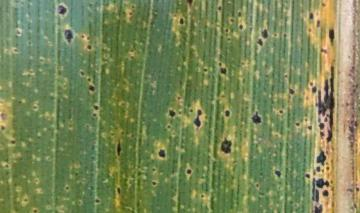tarspot: (317, 64, 335, 144), (311, 178, 320, 204), (220, 137, 233, 154), (316, 150, 327, 167), (315, 178, 331, 189), (194, 109, 203, 128), (251, 111, 263, 125), (64, 29, 74, 44), (328, 28, 335, 46), (57, 5, 67, 15), (116, 140, 122, 156), (167, 109, 176, 118), (321, 189, 330, 198), (319, 47, 329, 55), (313, 205, 323, 213), (158, 149, 166, 158), (220, 66, 227, 76), (262, 29, 269, 39), (274, 170, 282, 178), (224, 109, 231, 118), (319, 131, 326, 140), (315, 19, 321, 29), (256, 39, 264, 46), (288, 88, 296, 95), (319, 121, 325, 130), (88, 85, 95, 92), (254, 182, 261, 189), (179, 17, 185, 25), (311, 86, 317, 94), (308, 12, 314, 20), (238, 23, 244, 30), (15, 29, 21, 36), (323, 116, 329, 123), (272, 32, 280, 37), (186, 169, 192, 175), (74, 171, 80, 177), (317, 116, 322, 123), (117, 187, 121, 195), (151, 181, 157, 186), (224, 28, 230, 33), (13, 48, 19, 53), (187, 1, 193, 6), (309, 81, 314, 87), (307, 27, 312, 33), (315, 166, 320, 172), (311, 169, 316, 175), (87, 44, 92, 49), (80, 71, 85, 76), (1, 126, 6, 131), (93, 104, 98, 109), (217, 6, 222, 11), (128, 11, 133, 16), (283, 73, 288, 78), (295, 122, 300, 127), (305, 173, 310, 178), (307, 125, 312, 130), (321, 3, 326, 8), (85, 124, 90, 129), (325, 161, 330, 166), (177, 95, 181, 101), (237, 11, 241, 17), (324, 167, 330, 171), (321, 167, 324, 174), (81, 34, 85, 39), (92, 113, 97, 117), (65, 186, 70, 190), (33, 105, 37, 110), (4, 164, 9, 168), (23, 198, 28, 202), (200, 193, 205, 197), (189, 108, 193, 113), (229, 19, 235, 22), (11, 140, 15, 144), (95, 199, 99, 203), (33, 209, 37, 213), (167, 125, 171, 129), (203, 68, 207, 72), (279, 110, 283, 114), (304, 118, 308, 122), (283, 33, 287, 37), (18, 100, 22, 103), (152, 168, 156, 171), (87, 78, 90, 81)
